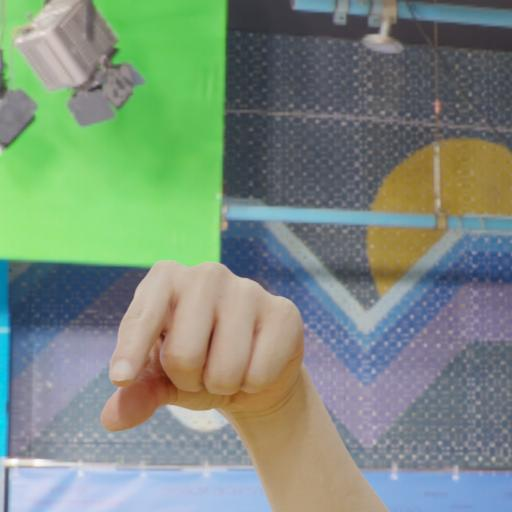Q: (88, 247, 324, 512)
